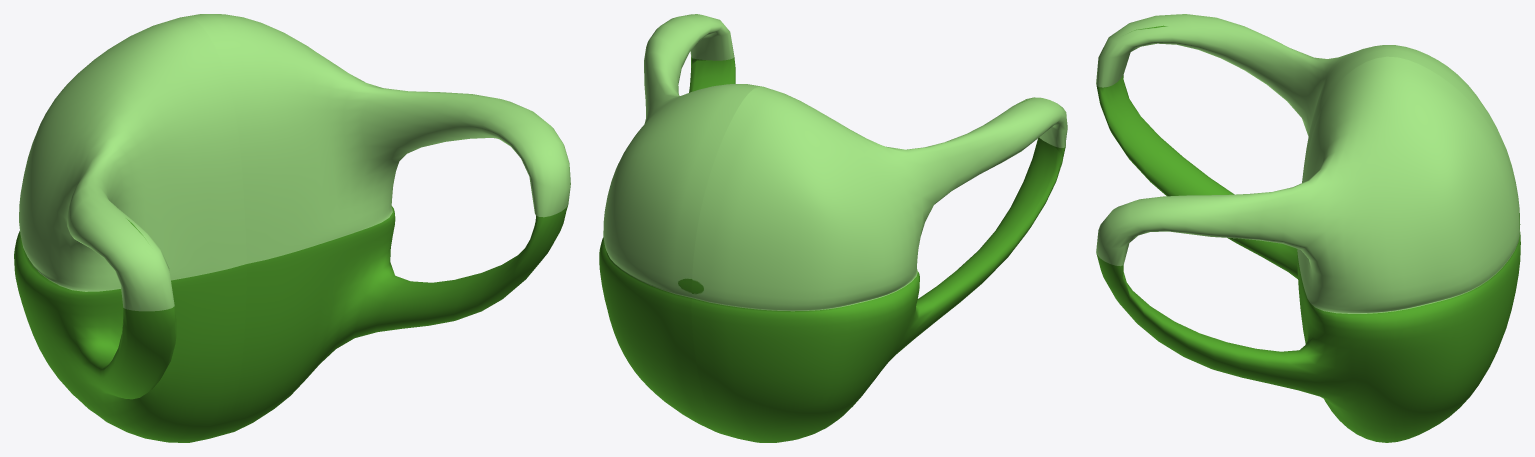
Rendered from mochila.fbx.
3 views of the same model, side by side, from view 1: azimuth 30°, elevation 25°; view 2: azimuth 150°, elevation 25°; view 3: azimuth 270°, elevation 25° (orthographic). The views are drawn at different scales.
Parts seen in each view (by area): view 1: pCube19.006; view 2: pCube19.006; view 3: pCube19.006.
Boxes of the visible parts, box(x1,y1,x2,y2) form: pCube19.006: box(14, 14, 570, 442); pCube19.006: box(599, 14, 1067, 442); pCube19.006: box(1096, 14, 1520, 442).
Size of the model in its own units: 0.7655 by 0.6535 by 0.6744.
